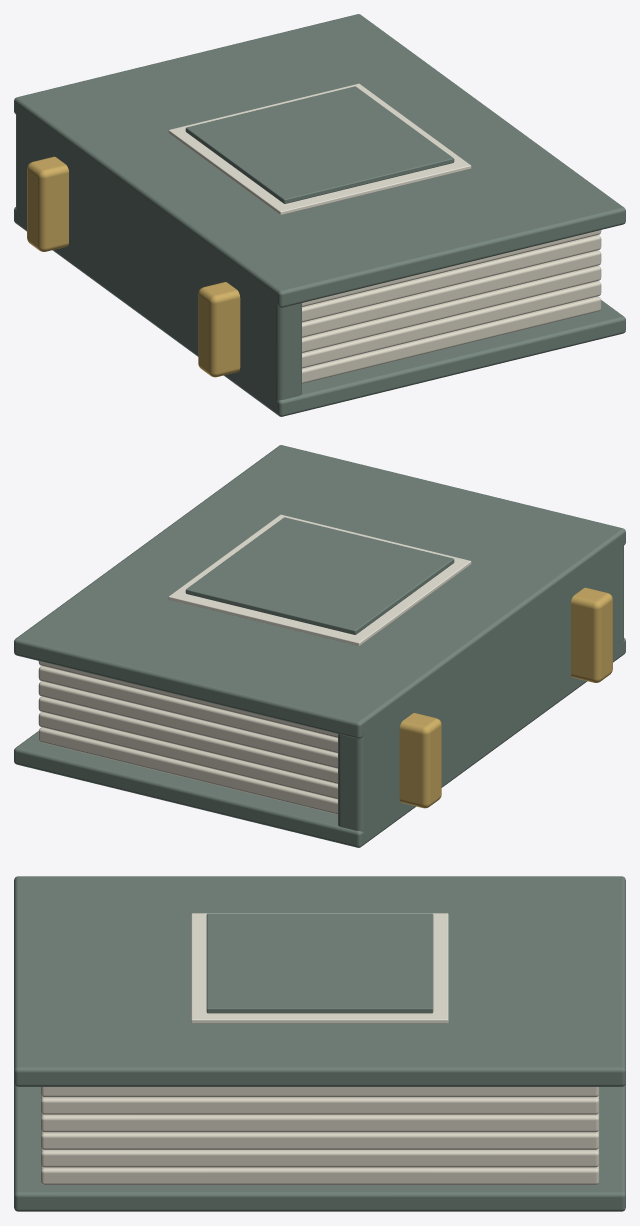
The model's file is bookbinding-and-paper-mill-clothbound-ledger-c569db3a__30587.glb.
The picture shows the model from 3 angles, top to bottom: view 1: azimuth 30°, elevation 25°; view 2: azimuth 150°, elevation 25°; view 3: azimuth 270°, elevation 25°; orthographic projection. The views are drawn at different scales.
Visible parts, largest first — view 1: clothbound-ledger; view 2: clothbound-ledger; view 3: clothbound-ledger.
Part boxes in pixels (x1,y1,x2,y2): clothbound-ledger: (14,14,625,416); clothbound-ledger: (14,445,625,847); clothbound-ledger: (14,876,625,1211).
Bounding box in the file's own units: 0.324 × 0.112 × 0.4.
